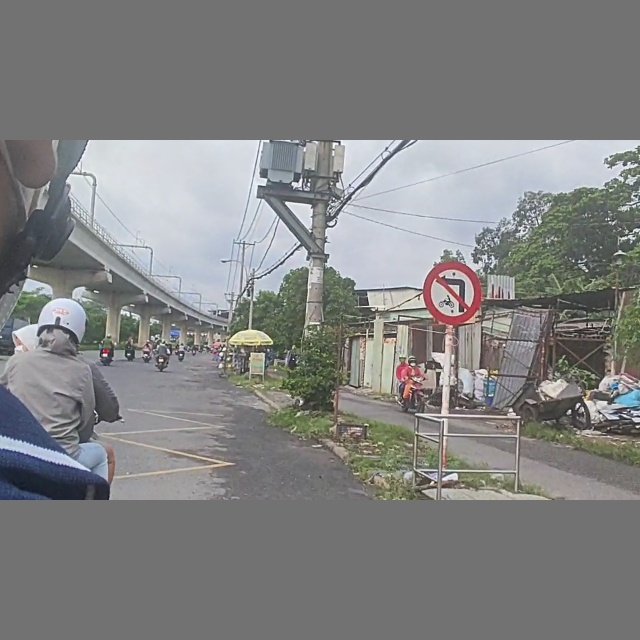P.123a: (423, 260, 485, 327)
